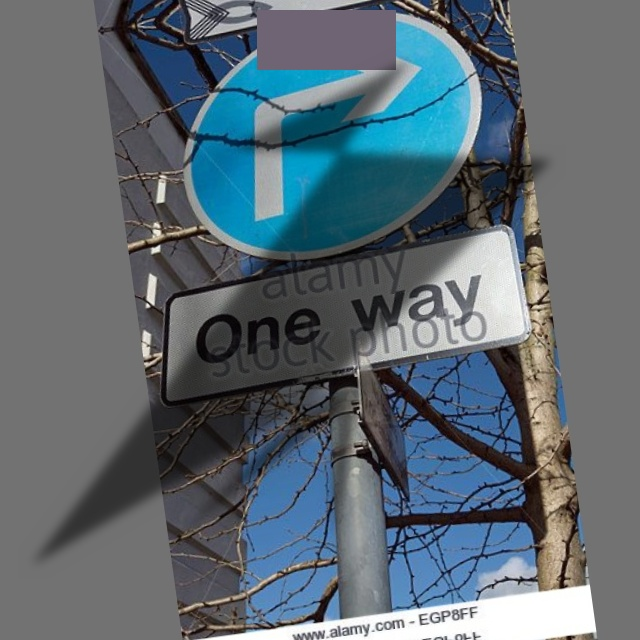Compulsory_Turn_Right_Ahead: (164, 1, 496, 264)
